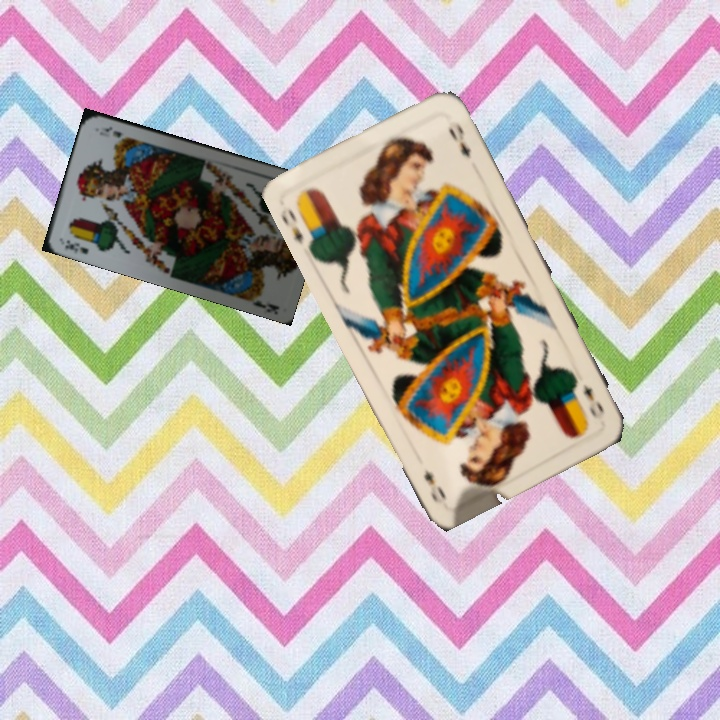EK: (61, 236, 91, 257)
EO: (276, 204, 306, 247), (578, 380, 607, 423)
